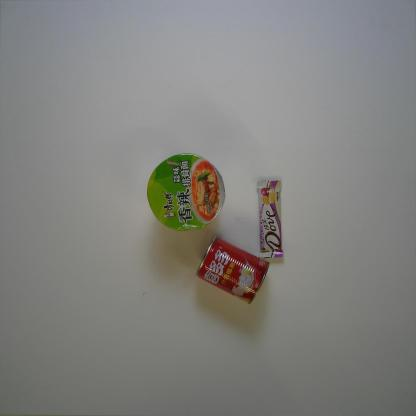Canned Food: (195, 235, 270, 304)
Chocolate: (256, 179, 284, 259)
Instant Noodles: (146, 152, 226, 232)
